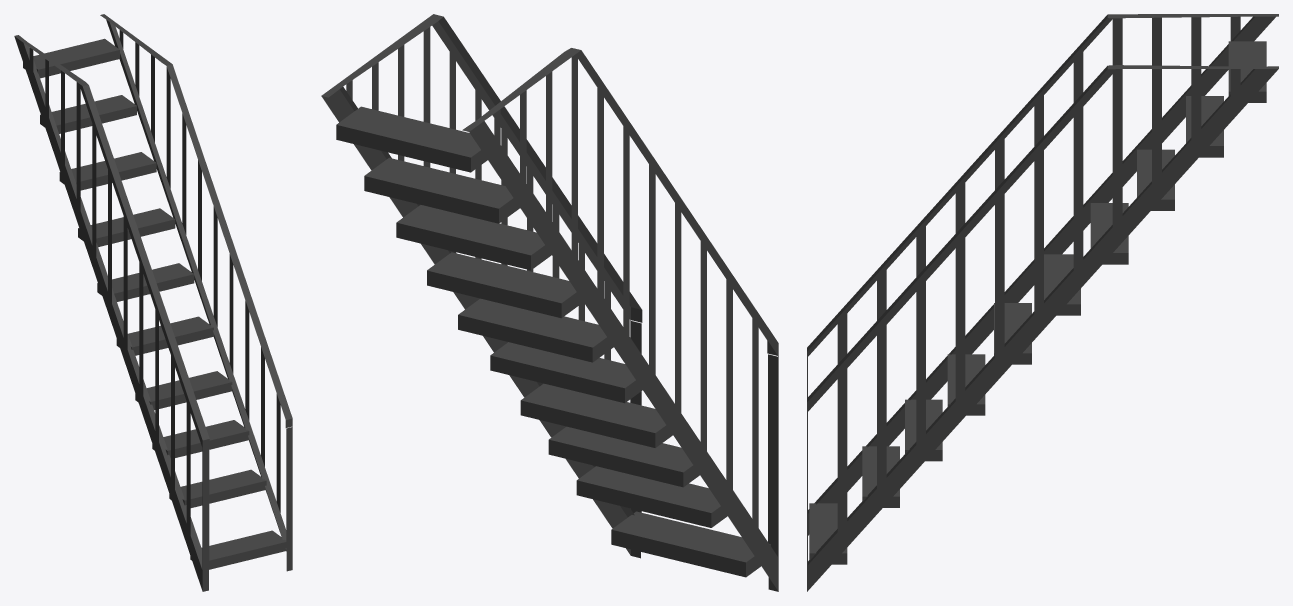
File: FireEscapeStairs.fbx
3 renders of one model, left to right at view 1: azimuth 30°, elevation 25°; view 2: azimuth 150°, elevation 25°; view 3: azimuth 270°, elevation 25°, orthographic. The views are drawn at different scales.
Visible parts, largest first — view 1: Plane.033; view 2: Plane.033; view 3: Plane.033.
Part boxes in pixels (x1,y1,x2,y2): Plane.033: (14, 14, 292, 591); Plane.033: (321, 14, 778, 591); Plane.033: (807, 14, 1278, 591).
Bounding box in the file's own units: 44.31 × 197 × 161.
